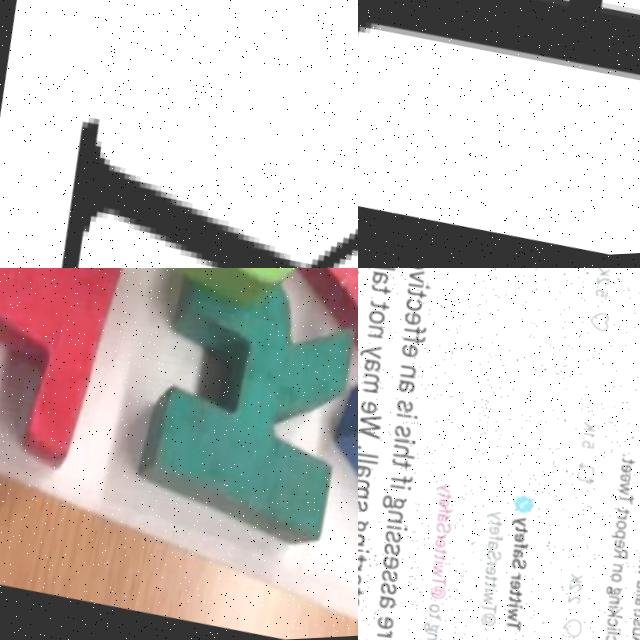1: (573, 434, 587, 444)
2: (554, 596, 570, 610), (589, 279, 605, 293), (555, 585, 571, 596)
5: (571, 441, 588, 455), (587, 292, 603, 303)
I: (0, 268, 179, 489)
K: (100, 268, 358, 572)
T: (277, 344, 358, 640)
X: (0, 0, 358, 268)
